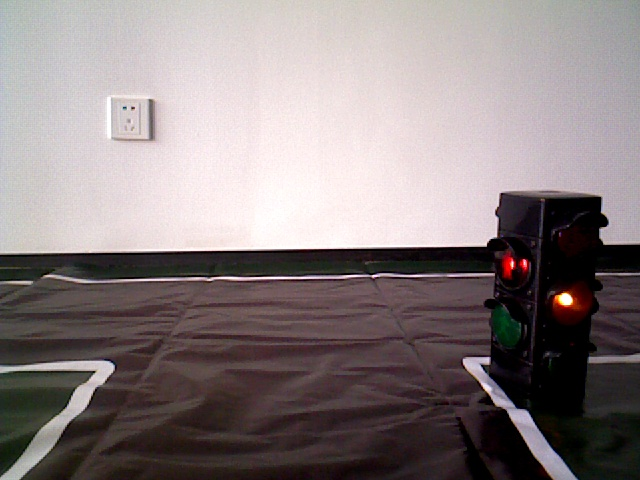yellow: (494, 195, 587, 395)
